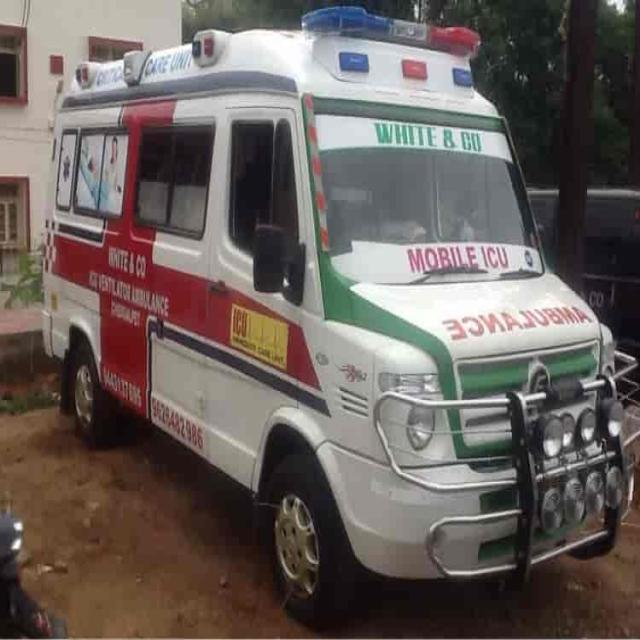ambulance: (43, 6, 630, 627)
